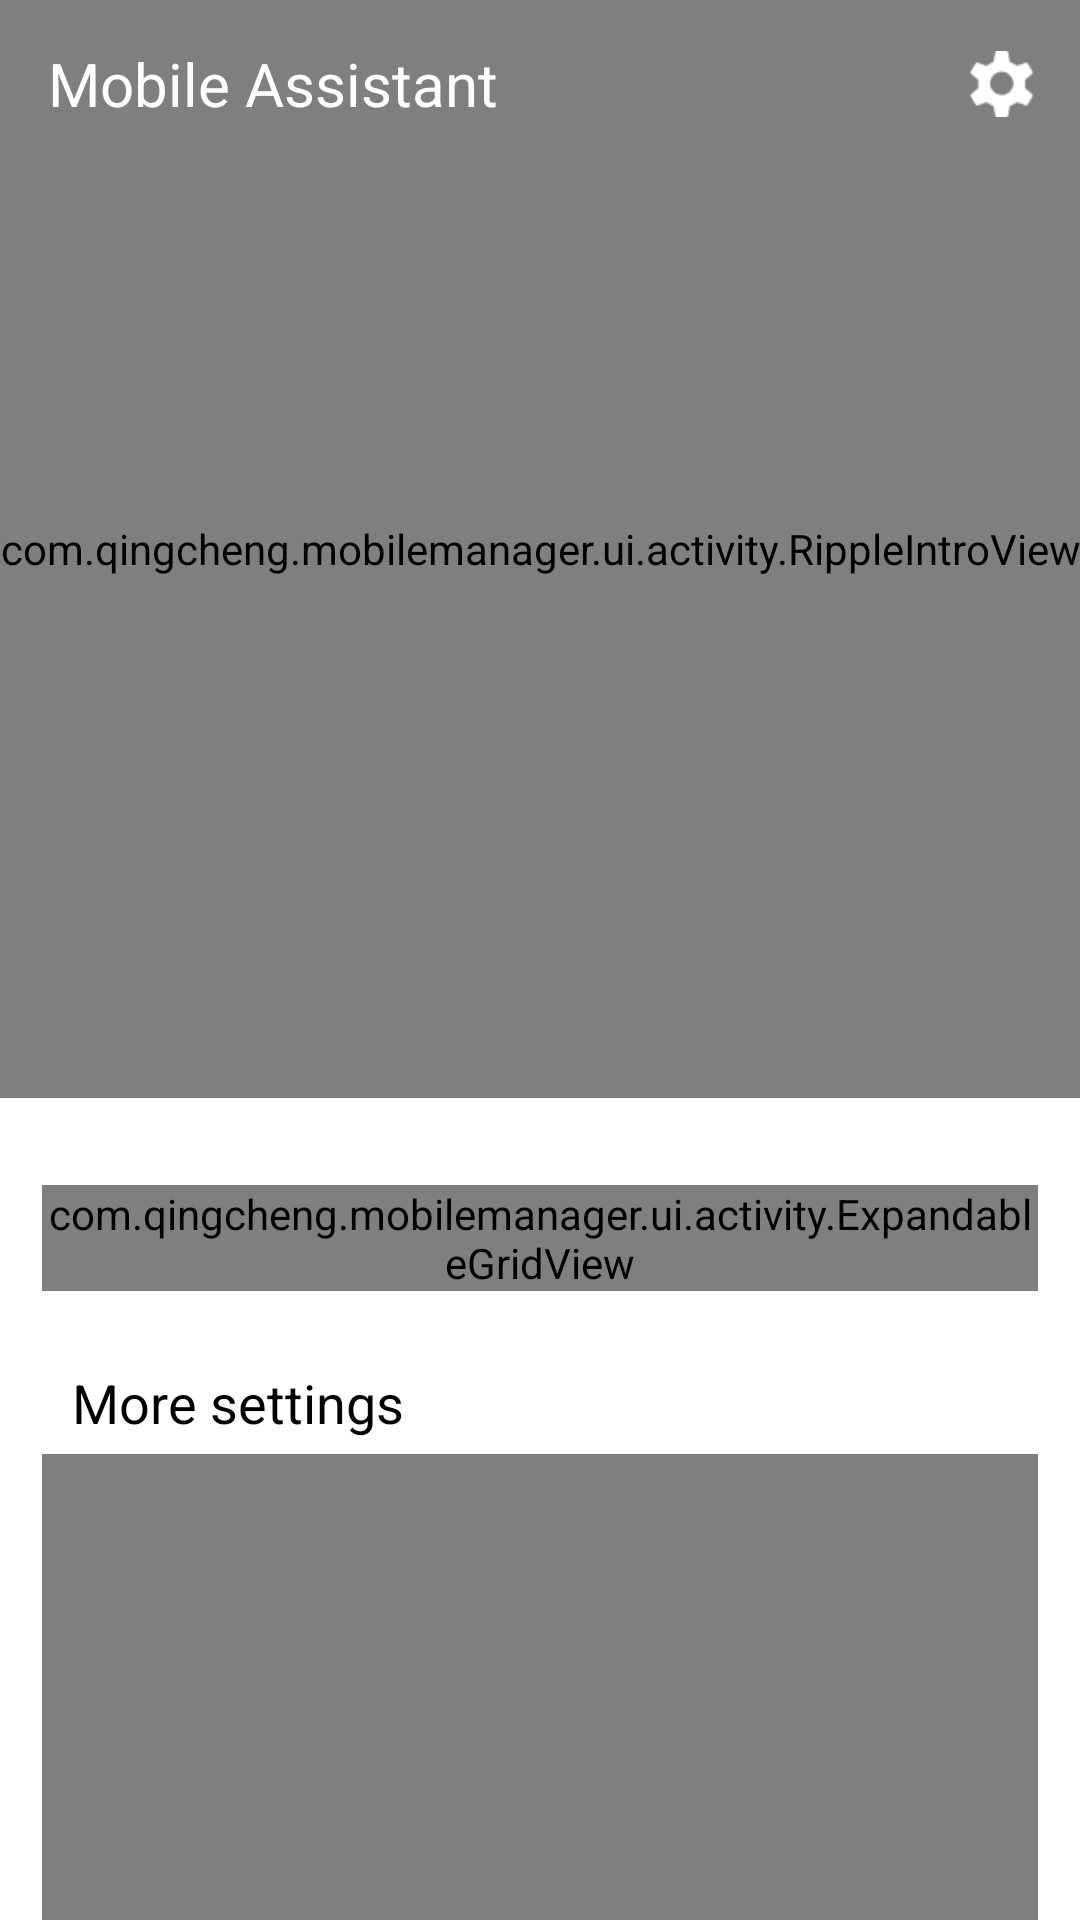

Point at icon controls on the screen. Image size 1080×1920, points as (x=x, y=y).
setting: (x=1001, y=84)
